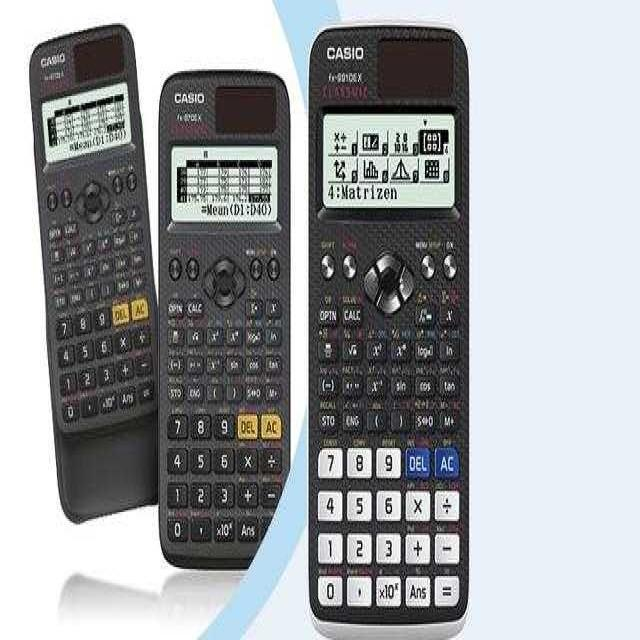Calculator: (308, 23, 469, 638), (160, 69, 296, 567), (30, 23, 157, 521)
